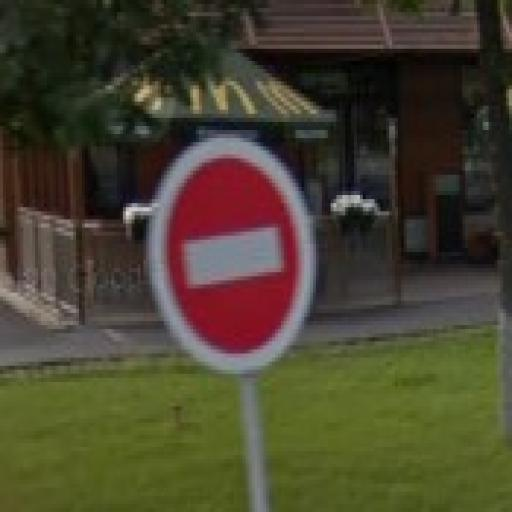traffic_sign: (144, 135, 320, 383)
